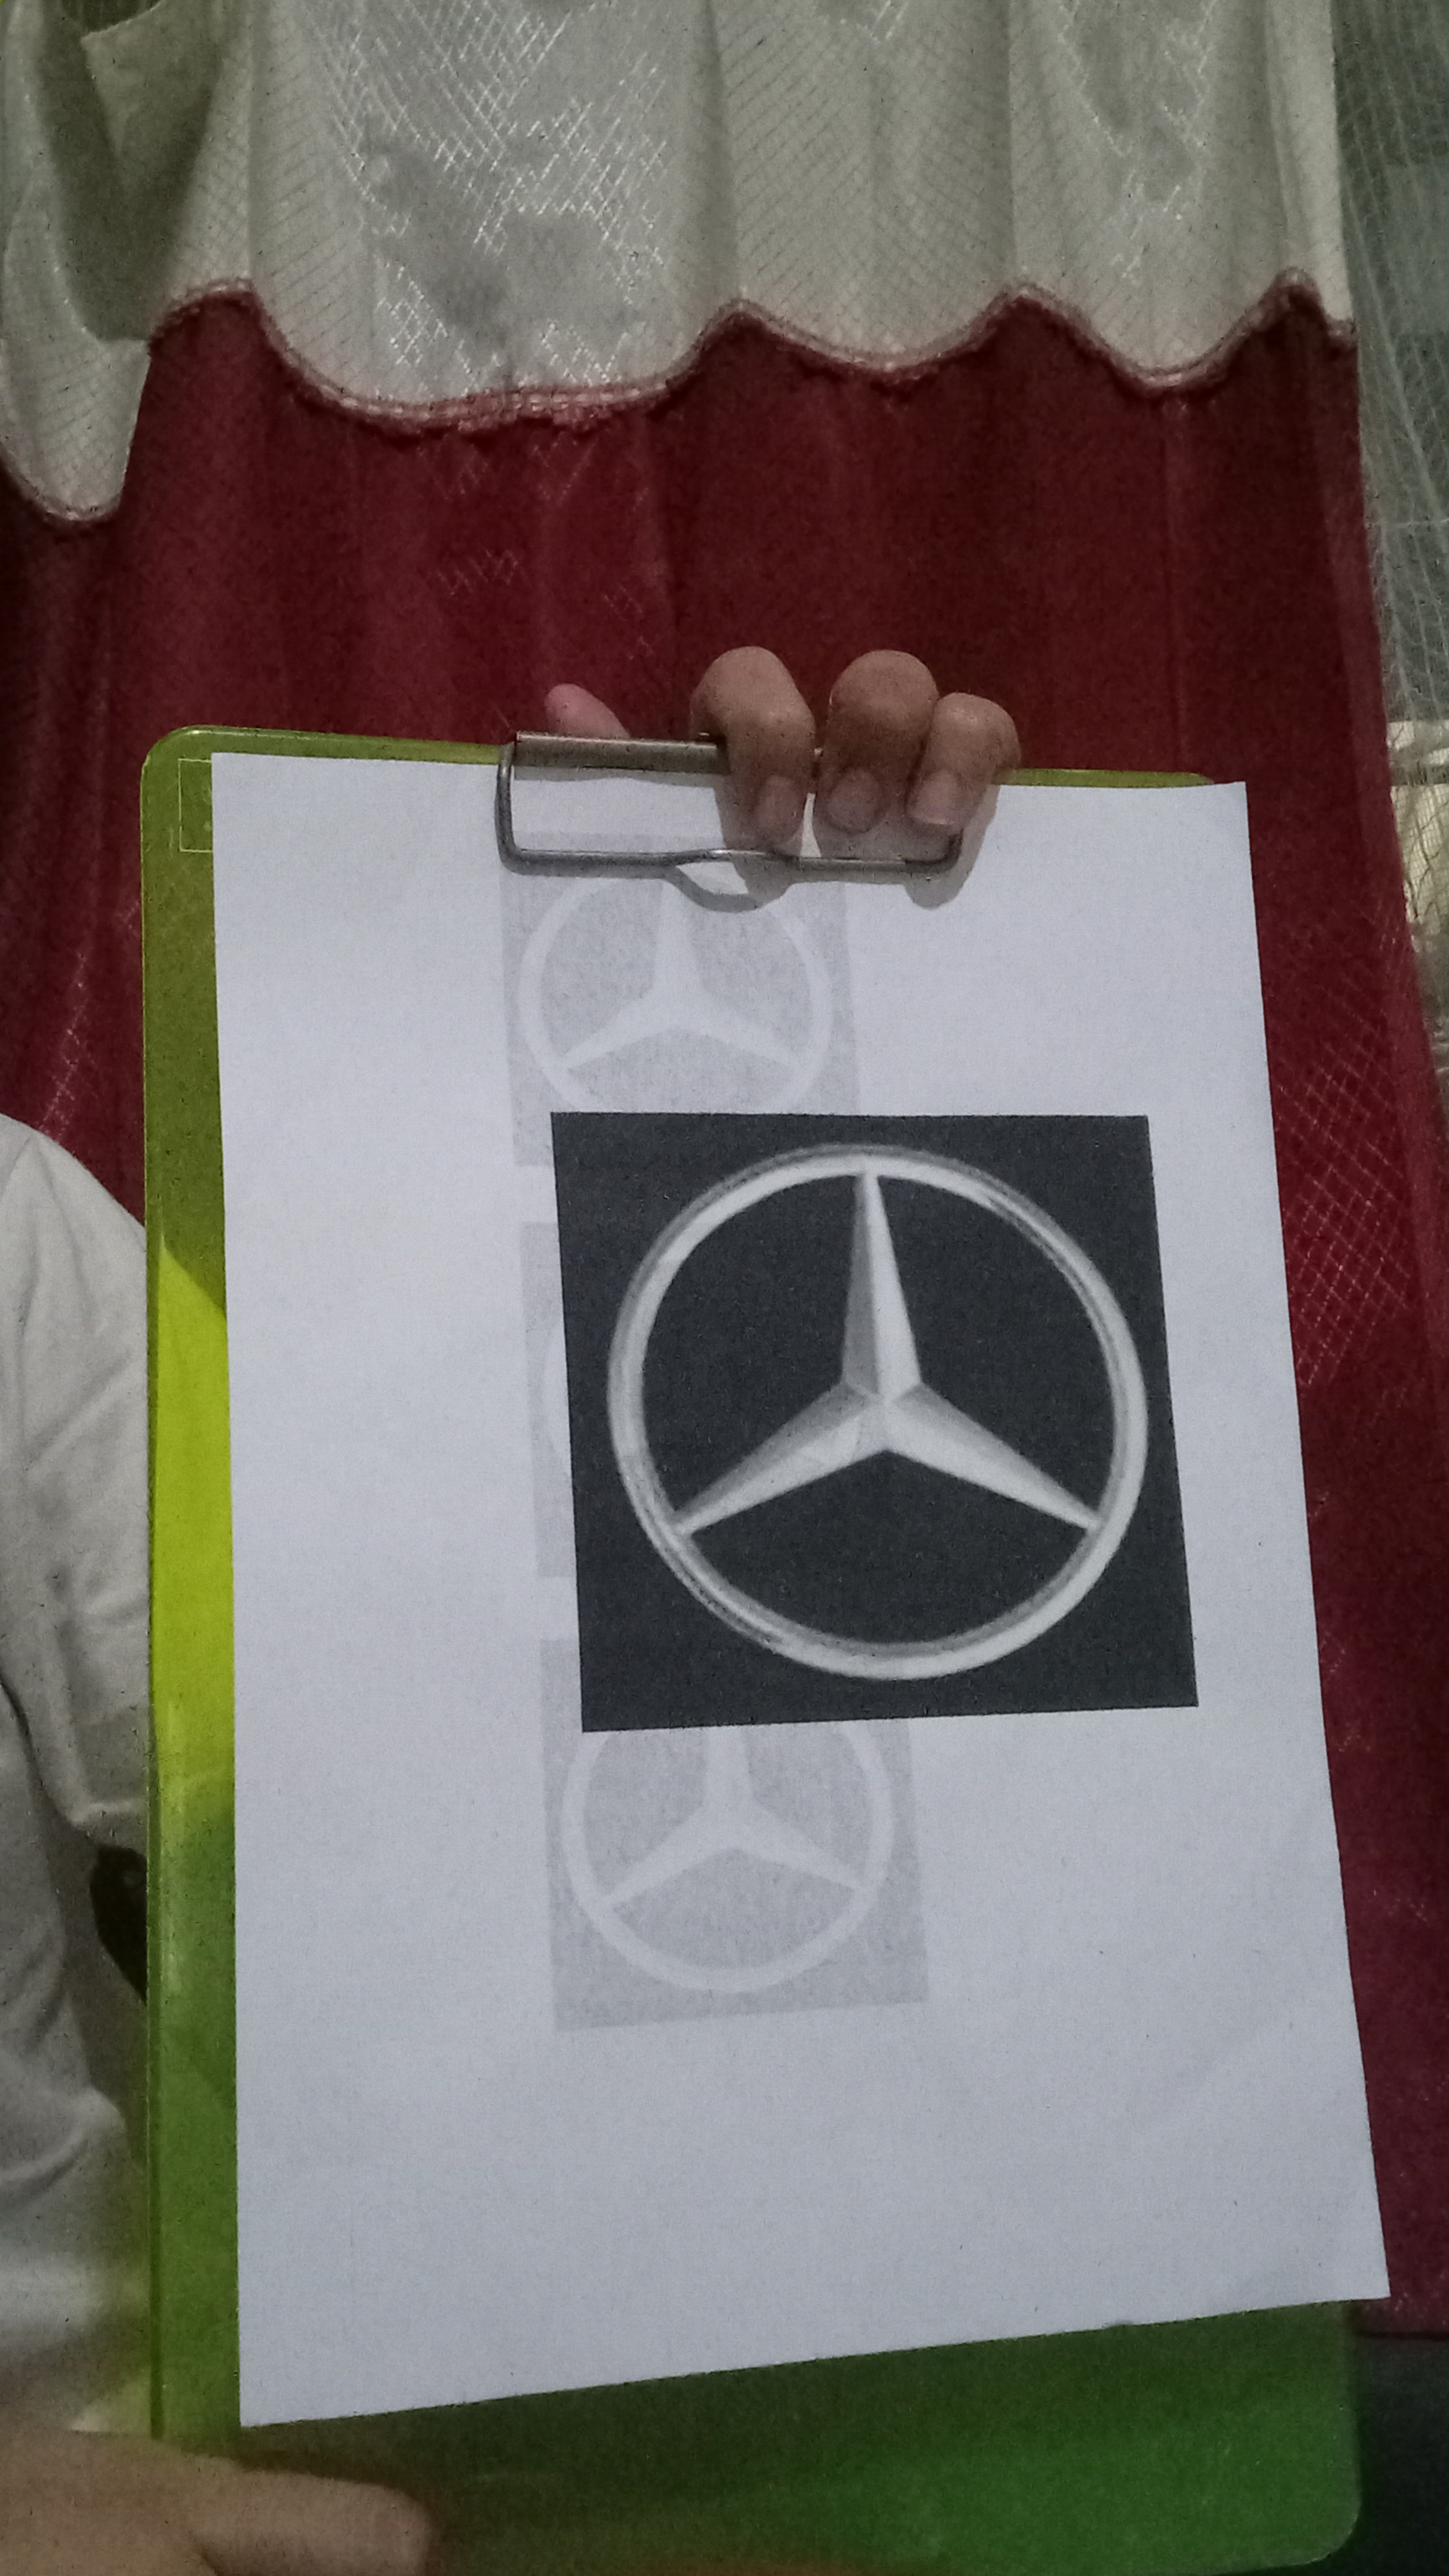Mercedes: (579, 1127, 1159, 1695)
